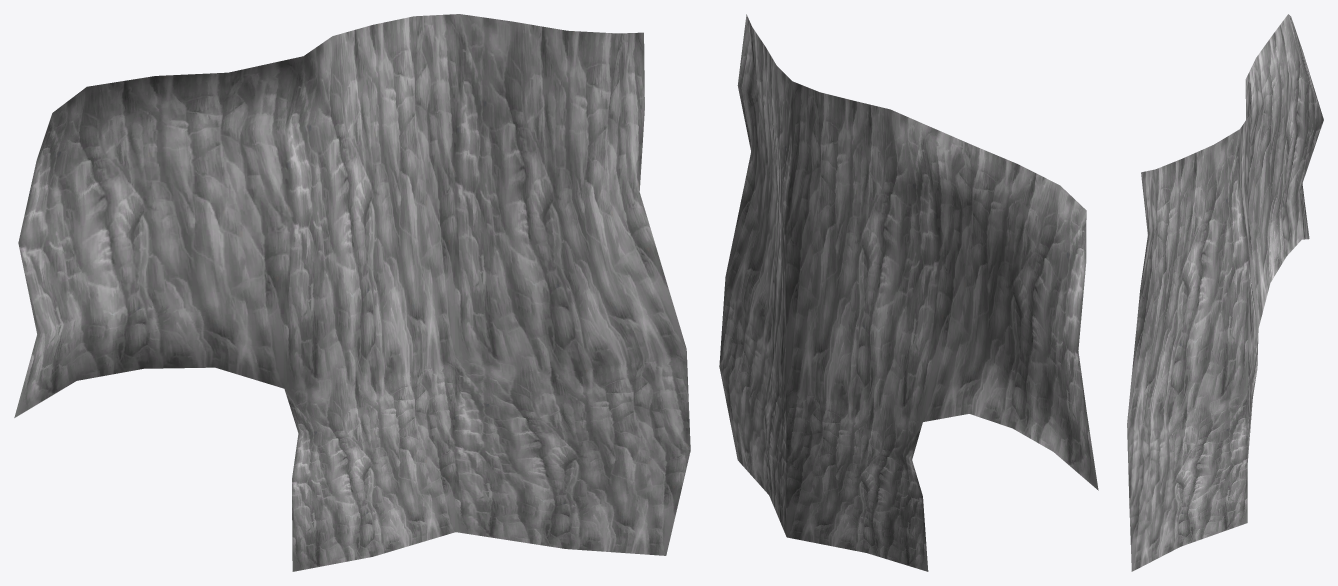
The model's file is SWORDLIGHT20_PS-AREA03_36.fbx.
3 renders of one model, left to right at view 1: azimuth 30°, elevation 25°; view 2: azimuth 150°, elevation 25°; view 3: azimuth 270°, elevation 25°, orthographic. The views are drawn at different scales.
Parts seen in each view (by area): view 1: SWORDLIGHT20_PS-AREA03_36; view 2: SWORDLIGHT20_PS-AREA03_36; view 3: SWORDLIGHT20_PS-AREA03_36.
Part boxes in pixels (x1,y1,x2,y2): SWORDLIGHT20_PS-AREA03_36: (14, 14, 690, 571); SWORDLIGHT20_PS-AREA03_36: (719, 14, 1098, 571); SWORDLIGHT20_PS-AREA03_36: (1127, 14, 1323, 571).
Size of the model in its own units: 166952 by 150410 by 67910.
1 material, 1 textured.
